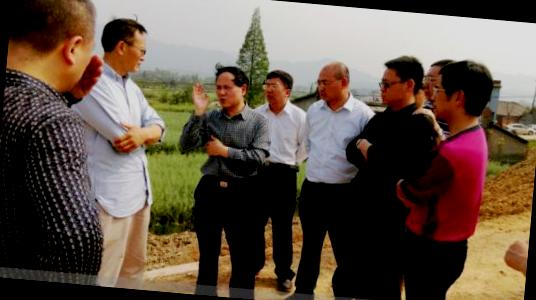no_helmet: (5, 0, 101, 96), (429, 57, 498, 132), (93, 13, 156, 76), (374, 50, 425, 112), (313, 55, 355, 109), (258, 64, 298, 110), (212, 62, 248, 110), (422, 57, 452, 109)
